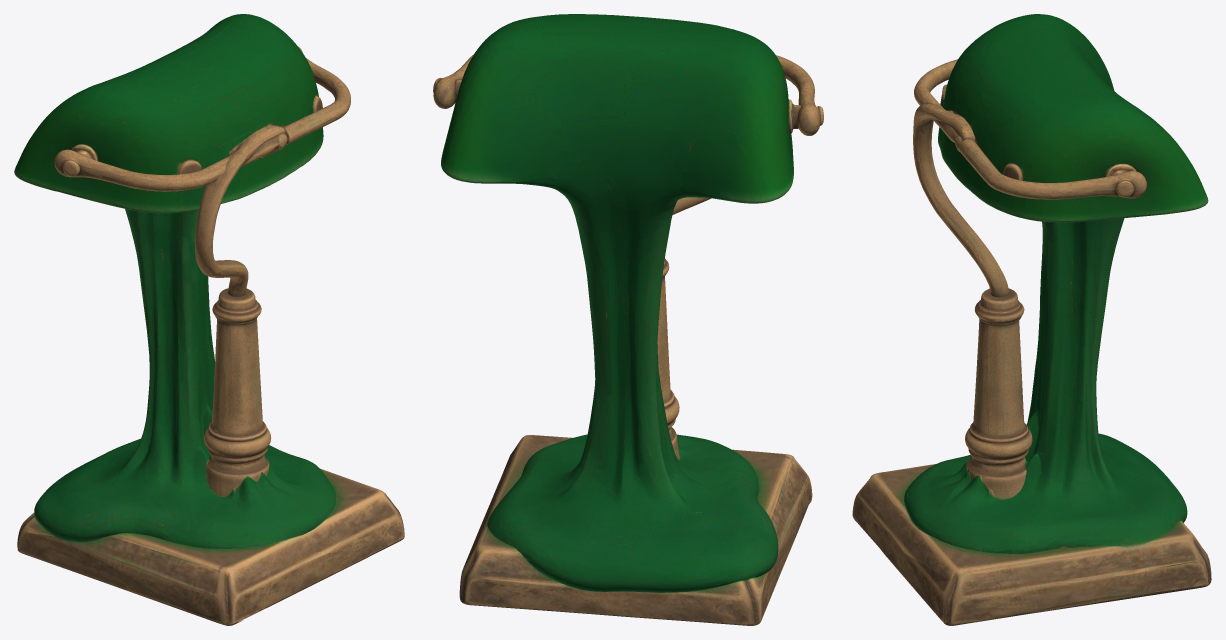
File: lamp.glb
3 renders of one model, left to right at view 1: azimuth 30°, elevation 25°; view 2: azimuth 150°, elevation 25°; view 3: azimuth 270°, elevation 25°, orthographic. The views are drawn at different scales.
Visible parts, largest first — view 1: Mesh_0; view 2: Mesh_0; view 3: Mesh_0.
Boxes of the visible parts, x1,y1,x2,y2 form: Mesh_0: (14,14,404,625); Mesh_0: (433,14,823,625); Mesh_0: (852,14,1211,625).
Bounding box in the file's own units: 0.3425 × 0.5 × 0.3328.
1 material, 1 textured.
